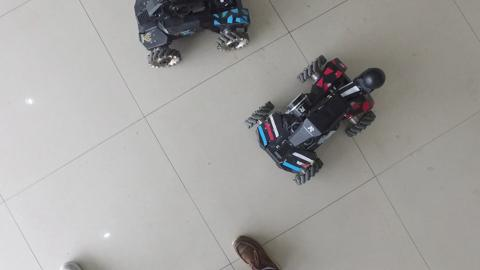chariot: (240, 47, 392, 193), (133, 1, 263, 73)
